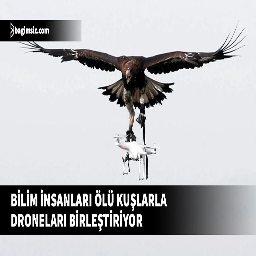Bird: (16, 28, 251, 141)
UAV: (108, 130, 164, 177)
